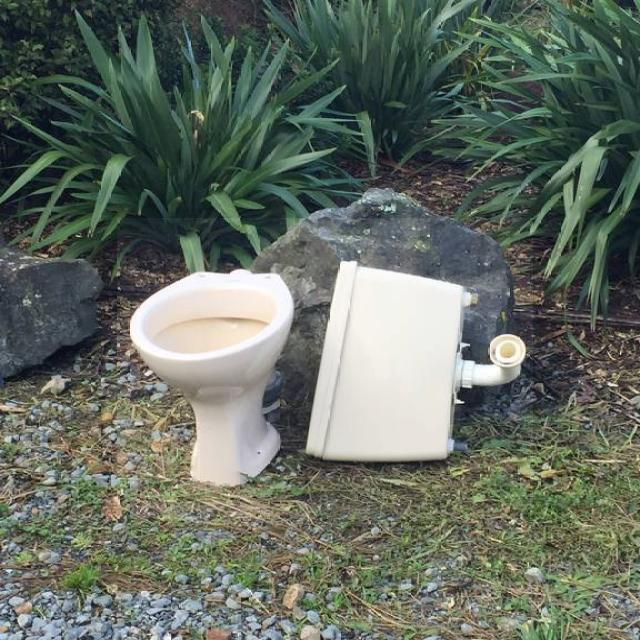dumping: (117, 218, 534, 519)
